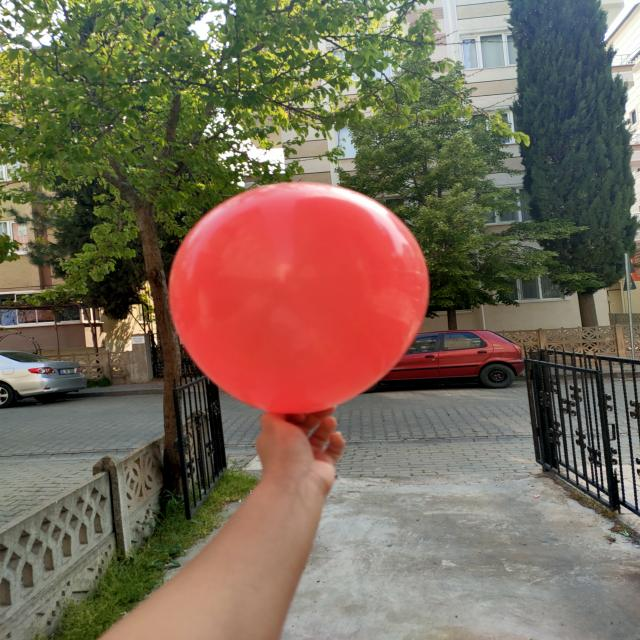red: (167, 183, 430, 417)
